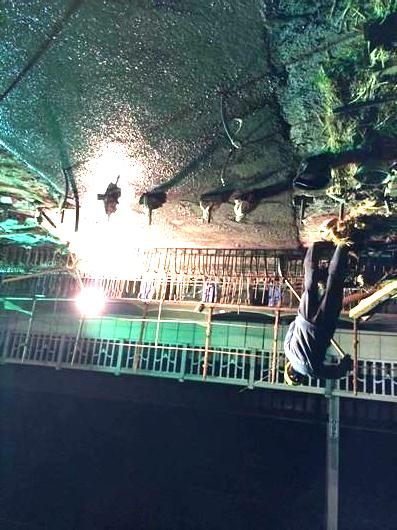helmet: (284, 361, 304, 386)
